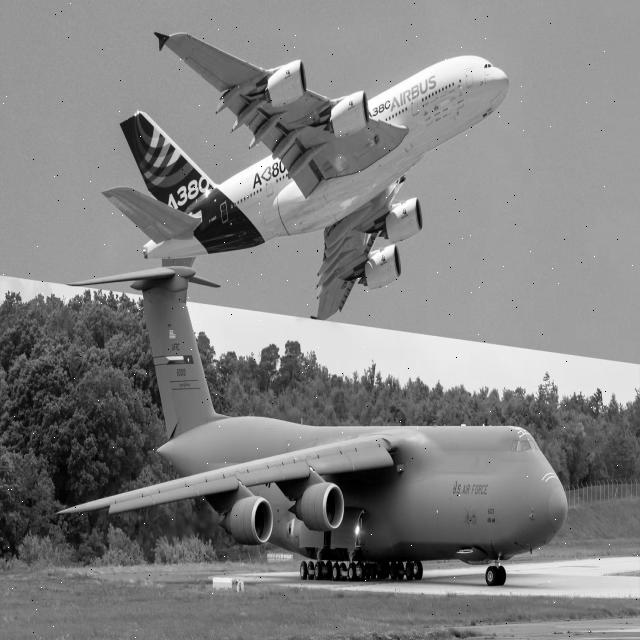C5: (80, 255, 596, 627)
